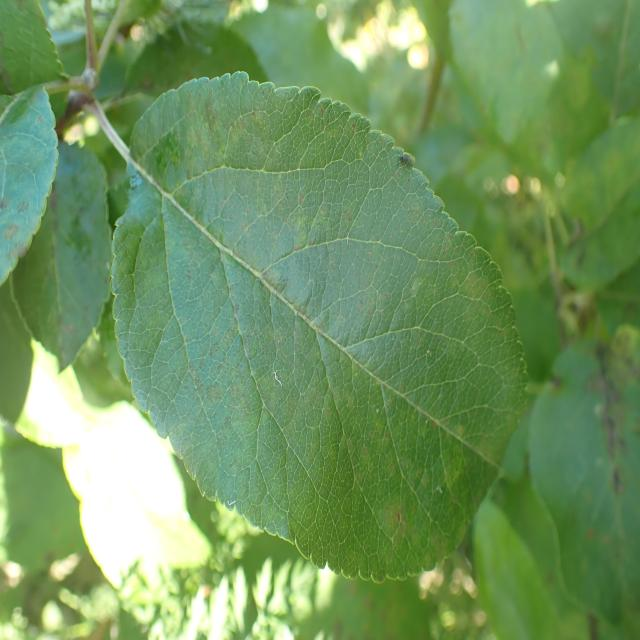scab: (161, 76, 478, 562), (2, 144, 104, 364), (566, 302, 640, 561)
